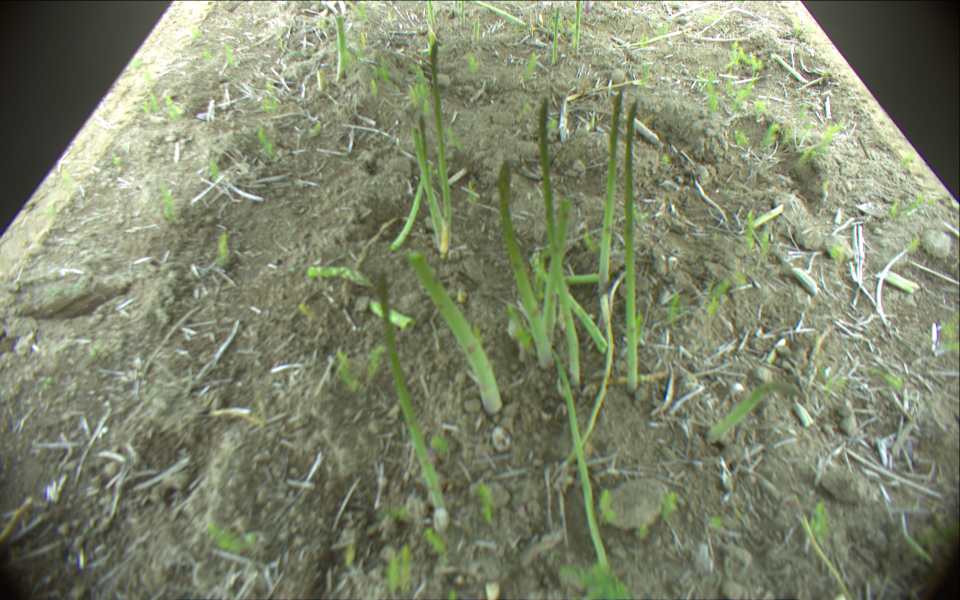aspa: (377, 268, 447, 527), (408, 251, 502, 414), (549, 347, 609, 568), (540, 96, 581, 385), (497, 160, 552, 369), (560, 295, 612, 472), (533, 259, 608, 354), (710, 381, 804, 444), (598, 89, 626, 300), (429, 41, 453, 254), (624, 100, 640, 390), (543, 201, 570, 342), (417, 116, 439, 252), (392, 176, 424, 249), (615, 29, 688, 48), (474, 1, 527, 26), (310, 266, 367, 285), (368, 300, 407, 327), (772, 55, 807, 85), (746, 205, 784, 230), (336, 14, 347, 81), (573, 1, 582, 53), (544, 3, 555, 40), (553, 8, 560, 64), (427, 1, 438, 34), (460, 1, 466, 25)
